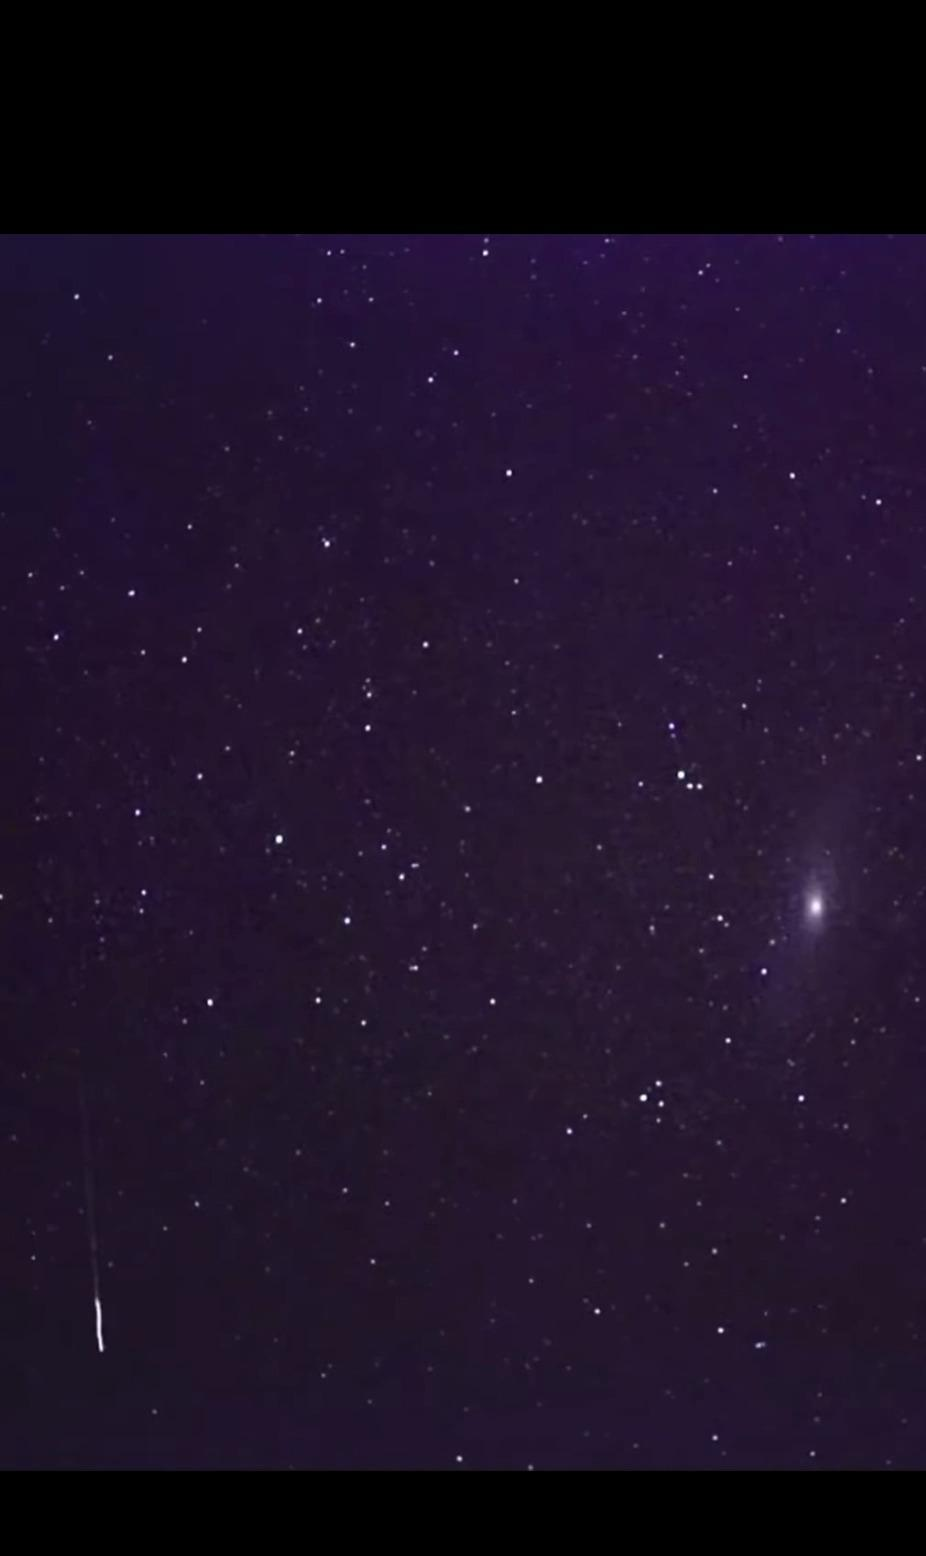meteorite: (60, 1069, 121, 1373)
